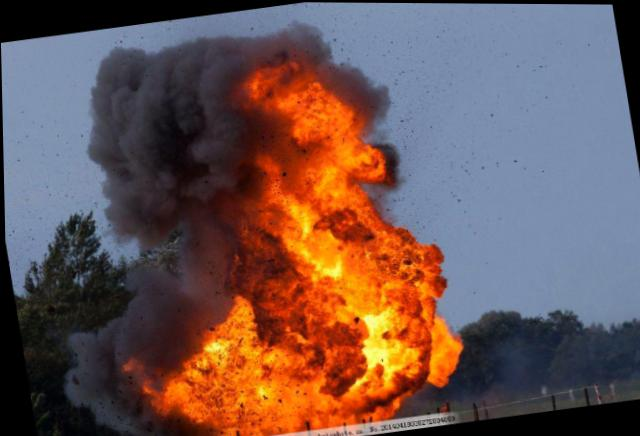fire: (167, 353, 316, 415), (211, 390, 358, 433), (281, 81, 355, 140), (336, 239, 383, 319), (417, 312, 469, 383), (192, 319, 265, 368), (323, 132, 383, 183), (302, 160, 352, 212), (302, 229, 345, 282), (356, 306, 391, 371), (279, 196, 318, 246), (244, 67, 272, 100), (227, 294, 256, 323), (263, 338, 304, 358), (385, 339, 413, 365)
